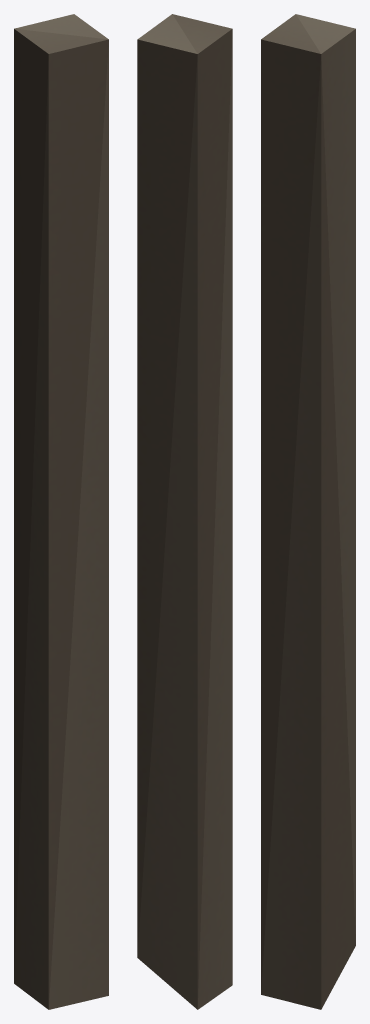
The model's file is Wood_9_LOD.fbx.
The picture shows the model from 3 angles, left to right: view 1: azimuth 30°, elevation 25°; view 2: azimuth 150°, elevation 25°; view 3: azimuth 330°, elevation 25°; orthographic projection.
Visible parts, largest first — view 1: polySurface1206; view 2: polySurface1206; view 3: polySurface1206.
Boxes of the visible parts, left/top/right/bottom form: polySurface1206: left=14, top=14, right=108, bottom=1009; polySurface1206: left=137, top=14, right=232, bottom=1009; polySurface1206: left=261, top=14, right=355, bottom=1009.
Size of the model in its own units: 0.33 by 5.01 by 0.33.
